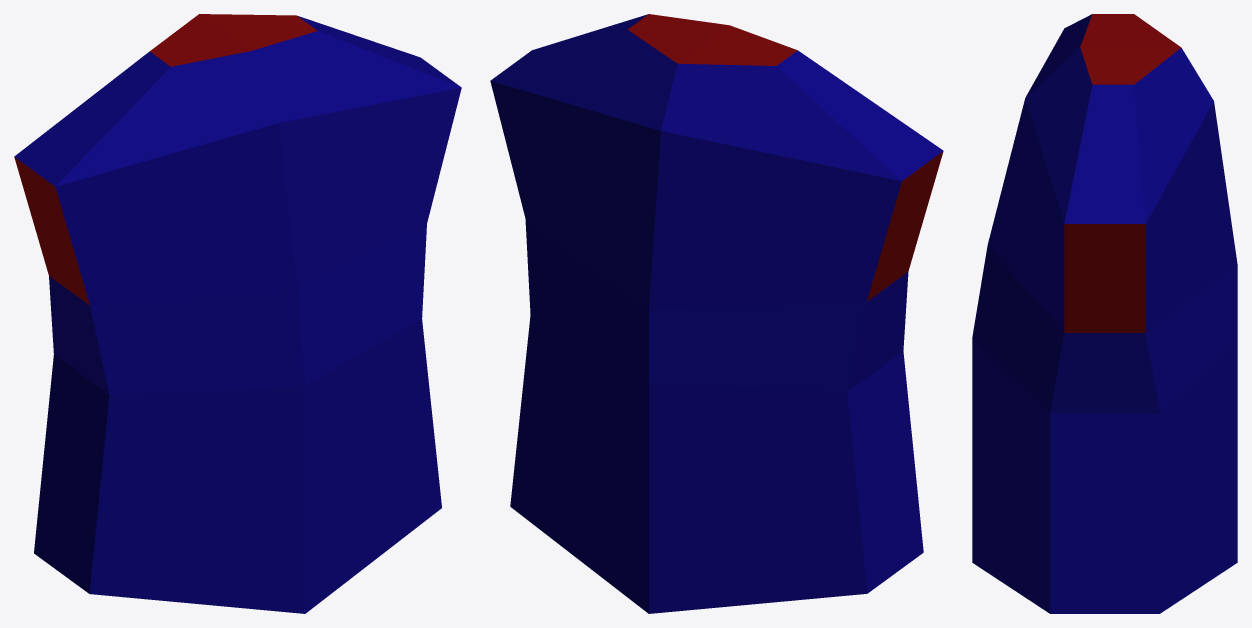
File: torso-blue.fbx
The picture shows the model from 3 angles, left to right: view 1: azimuth 30°, elevation 25°; view 2: azimuth 150°, elevation 25°; view 3: azimuth 270°, elevation 25°; orthographic projection. The views are drawn at different scales.
Parts seen in each view (by area): view 1: Cube; view 2: Cube; view 3: Cube.
Boxes of the visible parts, left/top/right/bottom form: Cube: left=14, top=14, right=461, bottom=613; Cube: left=490, top=14, right=943, bottom=613; Cube: left=972, top=14, right=1237, bottom=613.
Bounding box in the file's own units: 201 × 248 × 116.
